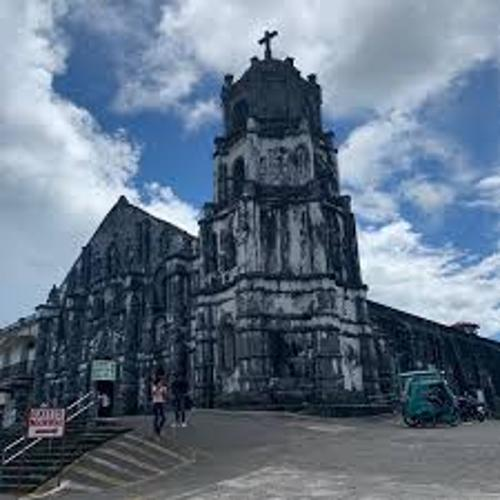Daraga Church: (38, 29, 376, 434)
